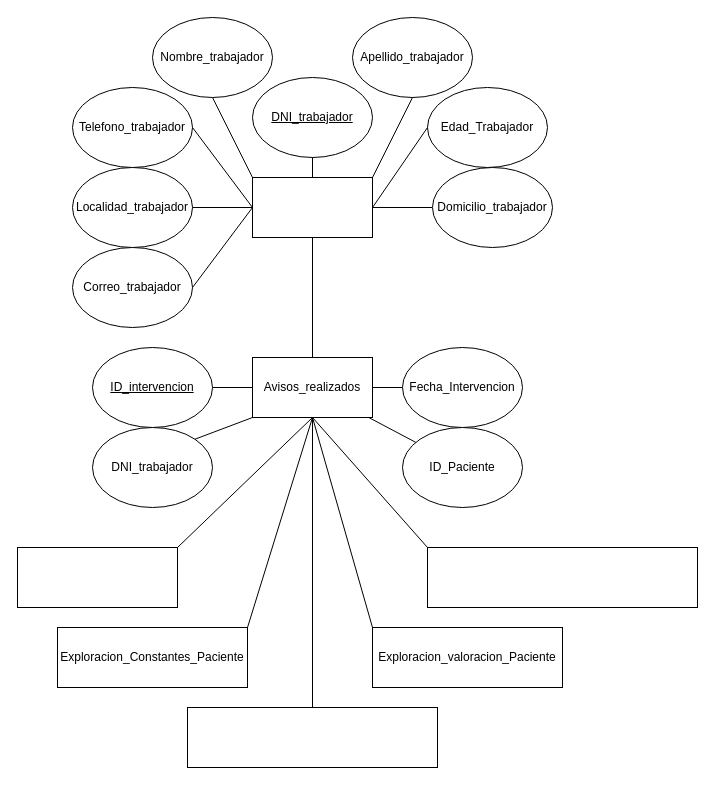
This 715x785 diagram has some shape labels left out. The shapes that lost their labels are listed below. From the top down, each one's box as (x1, y1, x2, y2) in pixels, then its label:
(252, 176, 372, 238): Trabajador
(16, 546, 178, 608): Datos_personales_paciente
(426, 546, 698, 608): Exploracion_Medicacion_Administrada_Paciente
(186, 706, 438, 768): Exploracion_Tecnicas_Realizadas_Paciente
